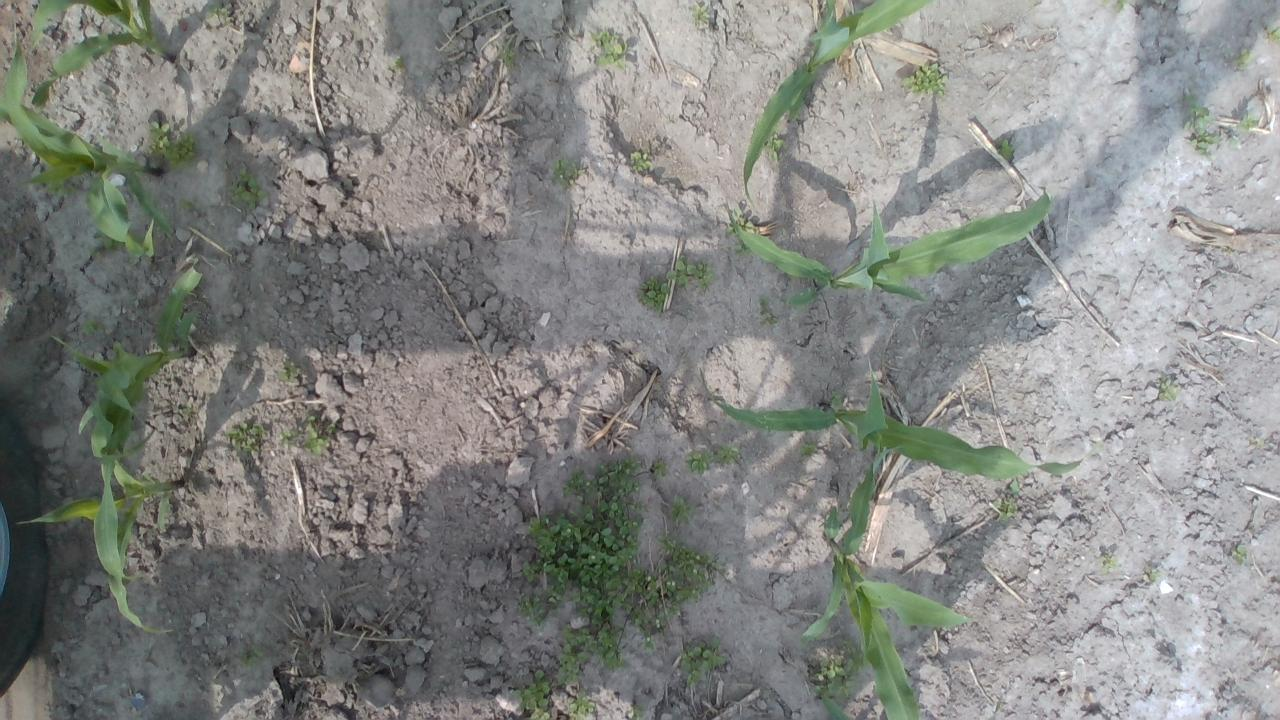Maize: (800, 352, 985, 720), (51, 257, 199, 588), (689, 360, 1104, 478), (0, 20, 175, 260), (740, 0, 939, 204), (726, 183, 1052, 302), (18, 396, 178, 631), (29, 0, 176, 107)
Weeds: (512, 453, 645, 685), (629, 530, 723, 650), (806, 636, 868, 700), (1178, 89, 1222, 158), (146, 120, 202, 172), (679, 637, 726, 688), (512, 669, 551, 720), (666, 253, 716, 290), (227, 166, 268, 211), (586, 28, 628, 70), (902, 63, 948, 96), (226, 421, 268, 456), (302, 416, 336, 457), (636, 274, 670, 312), (991, 476, 1020, 520), (549, 157, 587, 189), (1228, 114, 1258, 148), (566, 691, 597, 720), (669, 496, 694, 528), (40, 178, 77, 199), (683, 450, 715, 474), (725, 208, 754, 234), (92, 230, 125, 252), (756, 298, 779, 326), (276, 361, 302, 383), (689, 0, 711, 26), (716, 443, 740, 466), (628, 150, 653, 172), (762, 134, 782, 161), (1157, 377, 1179, 401), (240, 645, 264, 665), (498, 43, 516, 68), (82, 317, 104, 337), (650, 457, 669, 479), (1232, 49, 1254, 68), (1100, 552, 1118, 574), (204, 4, 228, 20), (280, 428, 298, 449), (998, 138, 1016, 159), (627, 702, 646, 720), (798, 440, 818, 456), (1265, 24, 1280, 45), (177, 194, 196, 210), (1230, 546, 1246, 564), (826, 391, 844, 406), (734, 240, 751, 255), (387, 55, 402, 70), (1112, 0, 1130, 12), (87, 246, 101, 261), (183, 402, 193, 414), (1150, 568, 1160, 579), (1254, 439, 1265, 448), (1100, 0, 1112, 7)
